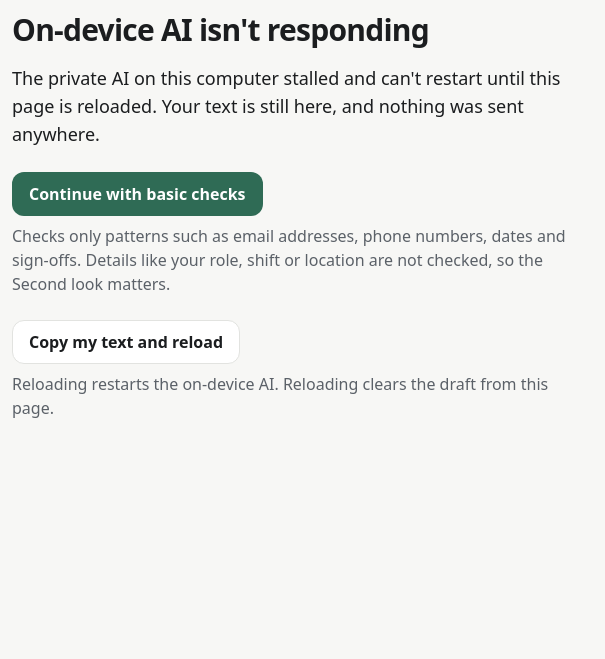
Test: StallPanel, terminal › when the copy fails, shows the text for a manual copy and still asks before reloading
Later steps or results of the test are not shown.
Click the button "Copy my text and reload".
click(126, 342)  # box [12, 320, 240, 364]
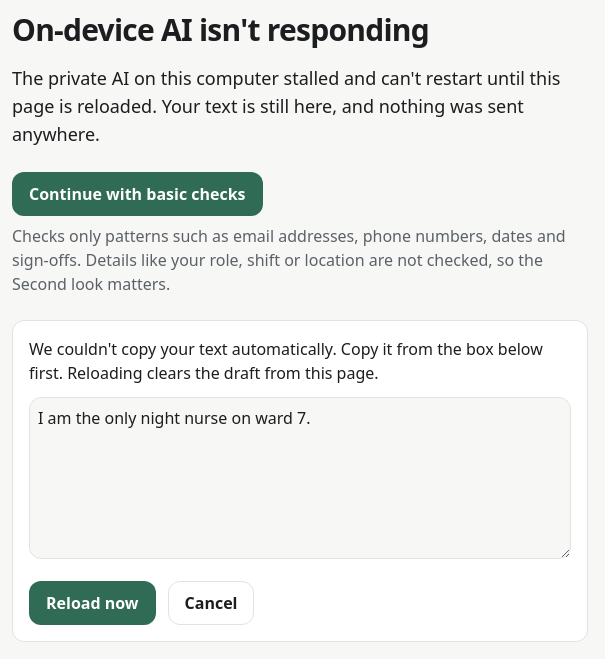
Expected: the number of messages is 2, [12, 64, 588, 148]; [29, 337, 571, 385]
Expected: the text "couldn't copy your text automatically" is shown, [29, 338, 543, 384]
Expected: the text box named "Your report text" holds "I am the only night nurse on ward 7.", [29, 397, 571, 559]
